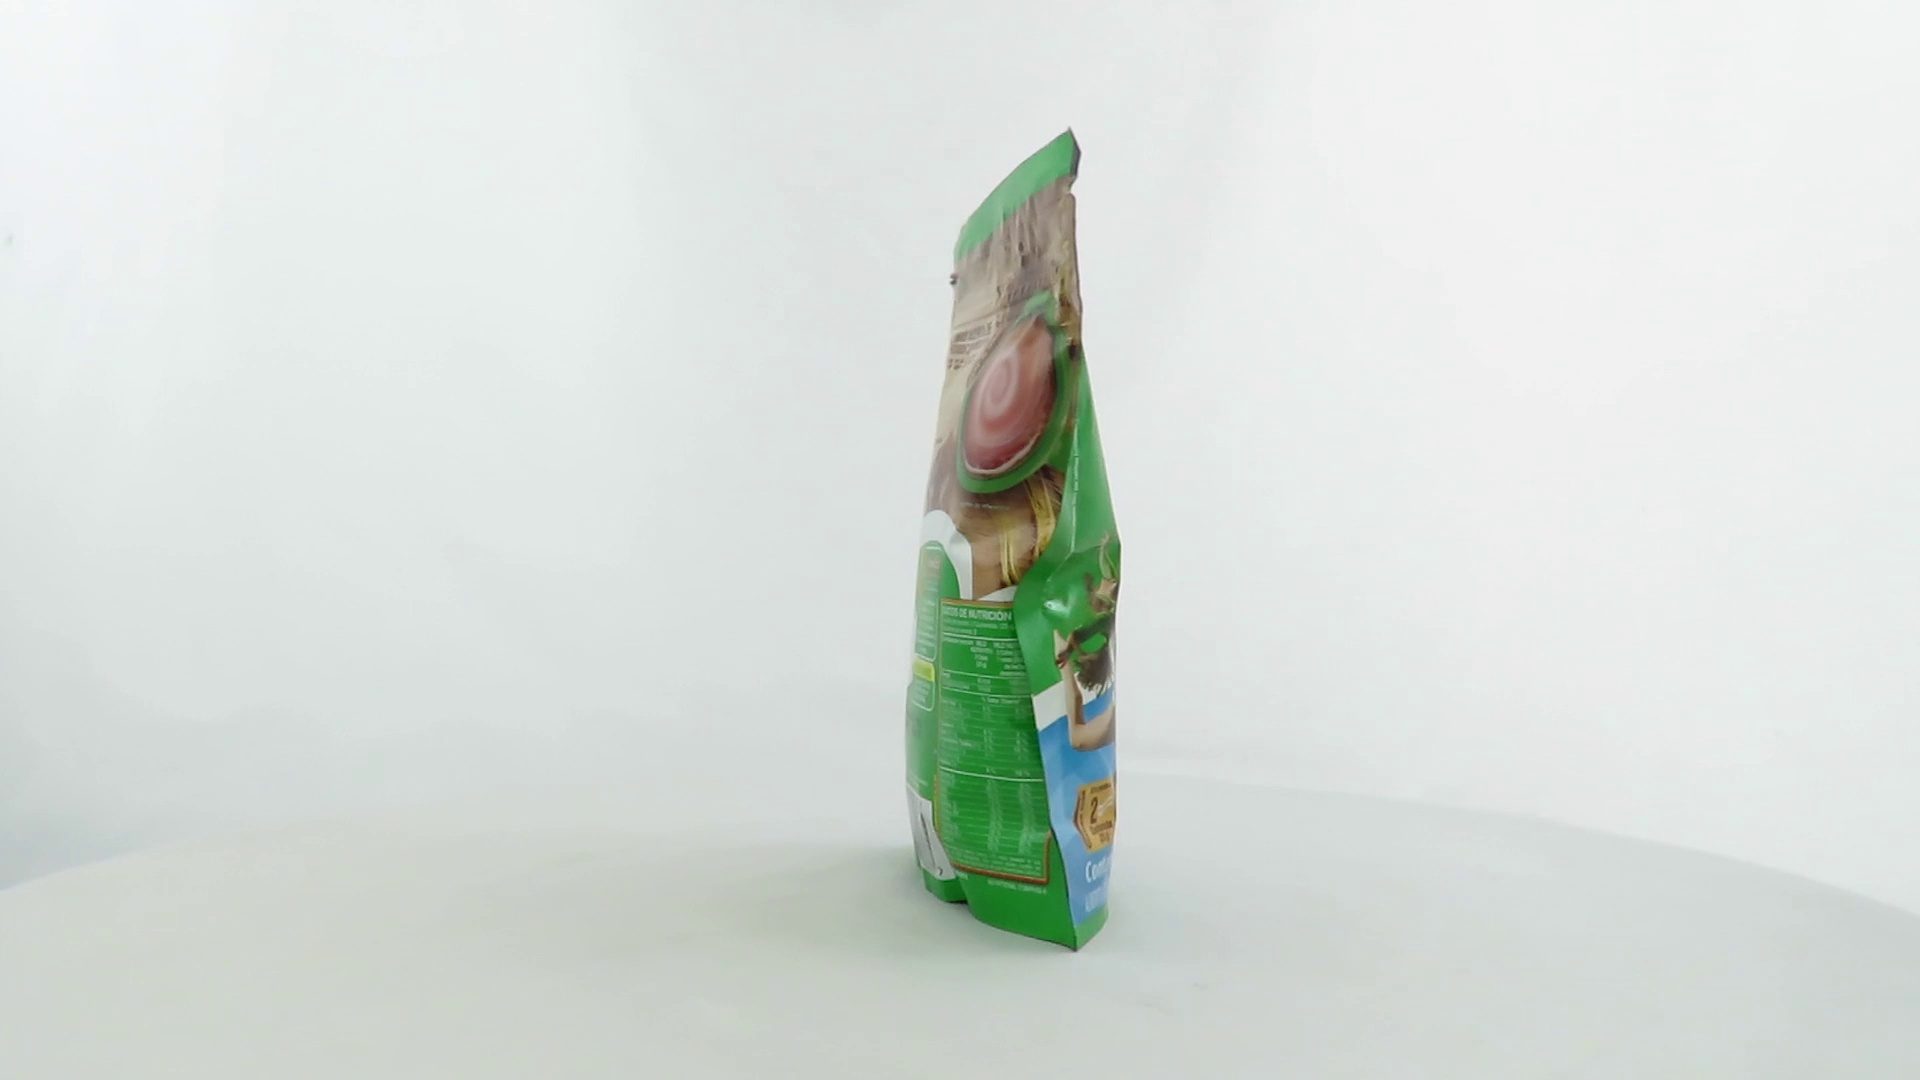COL0170205DYP20000: (899, 121, 1127, 957)
